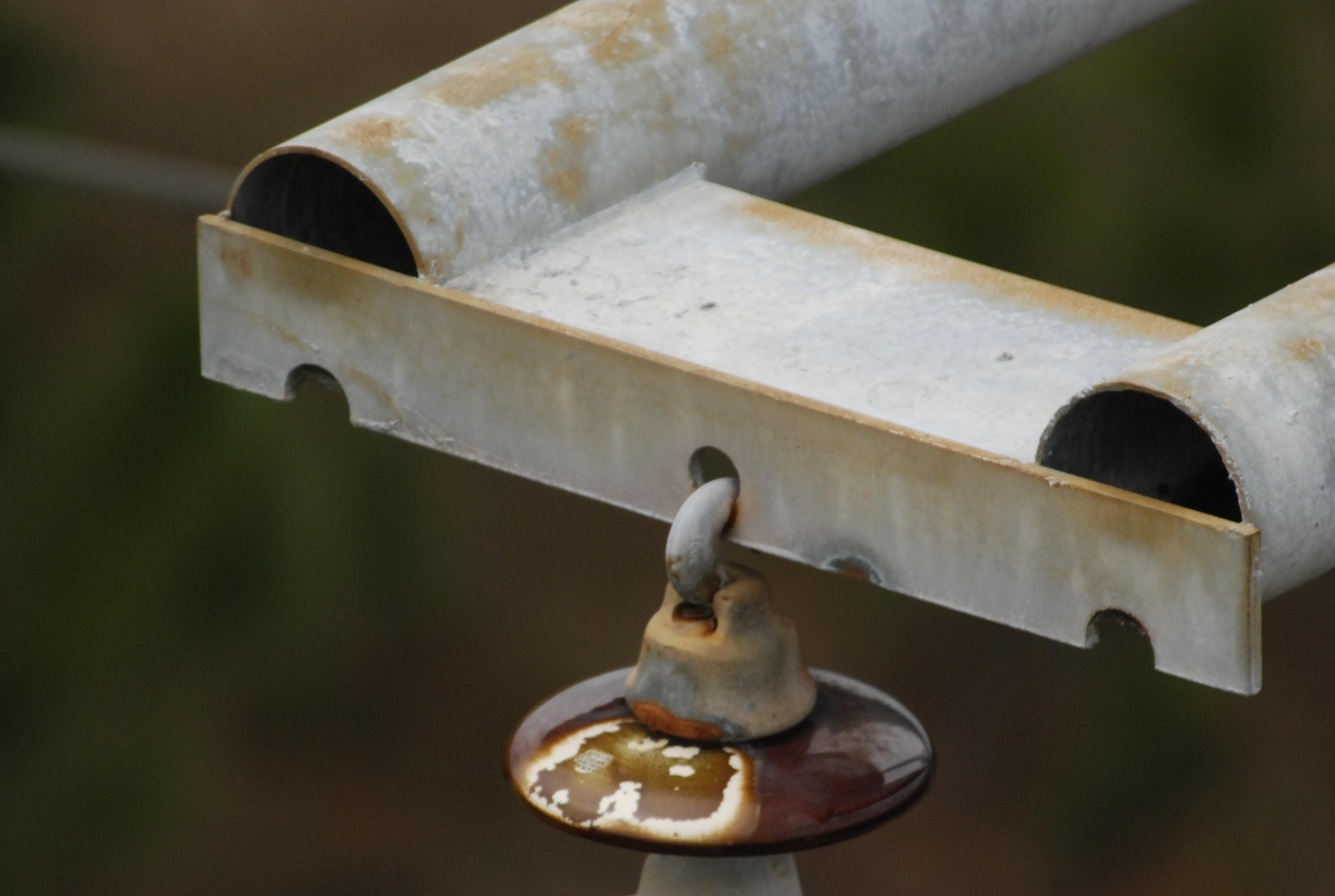Flashover: (518, 698, 757, 853)
insulator: (505, 605, 927, 893)
